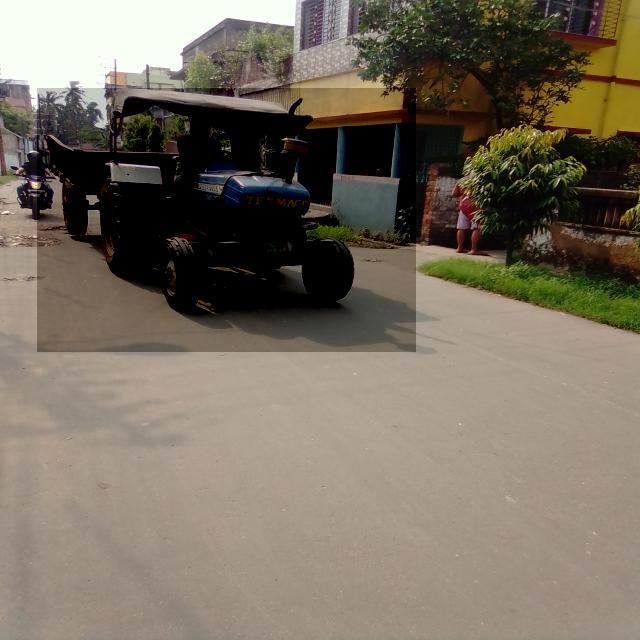Tractot: (37, 88, 416, 352)
